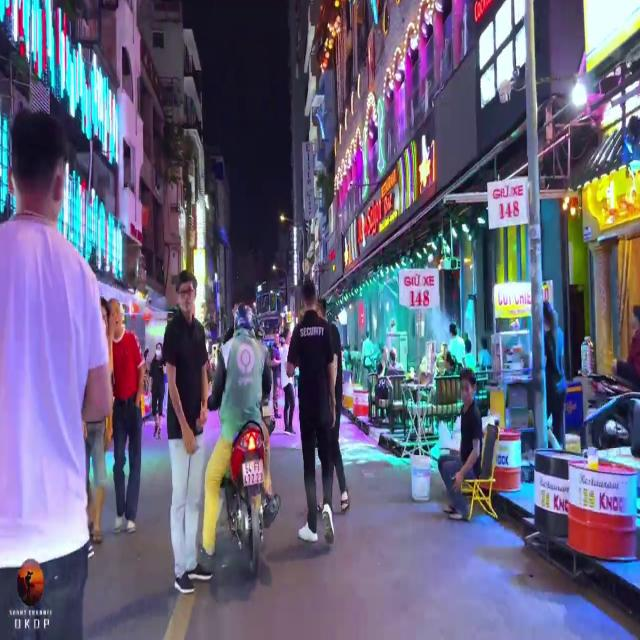bien_trang: (240, 452, 267, 484)
